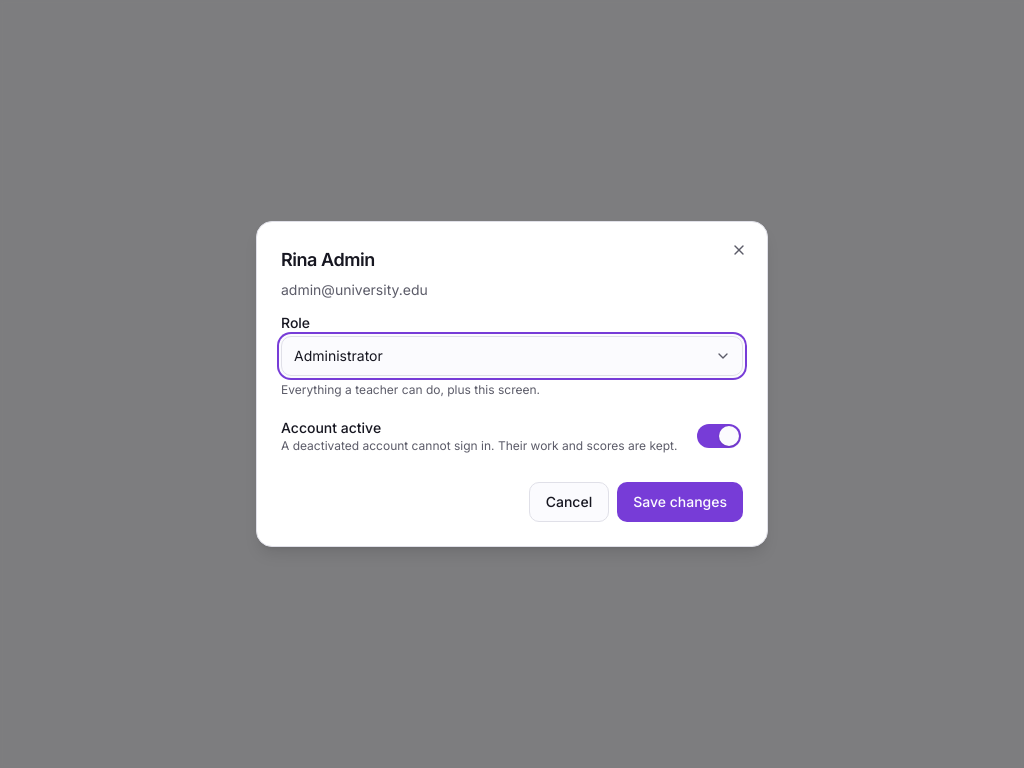
Scenario: changing what someone may do › refuses to let anyone deactivate the account they are signed in with
Step 1. Click the switch named "account active" → (719, 436), box [695,414,743,458]
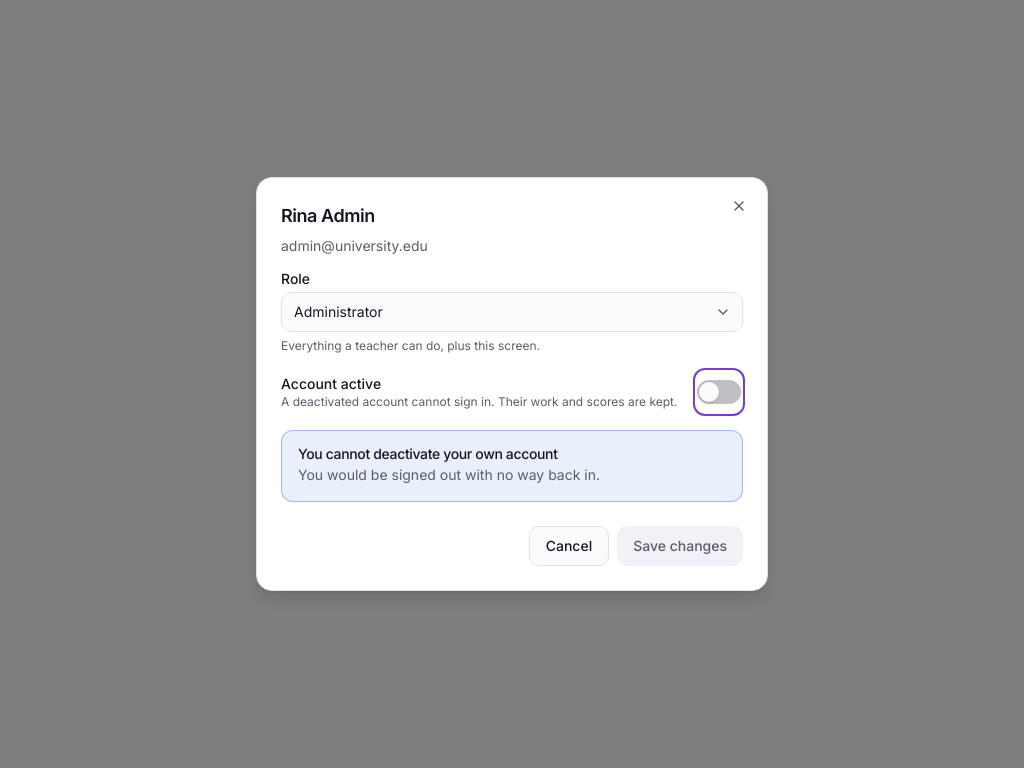
Now the heading "You cannot deactivate your own account" is shown, box [298,445,558,462]
Now the button "Save changes" is disabled, box [617,526,743,566]
